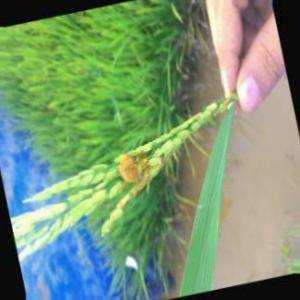Leaf_Scald: (112, 156, 148, 183)
